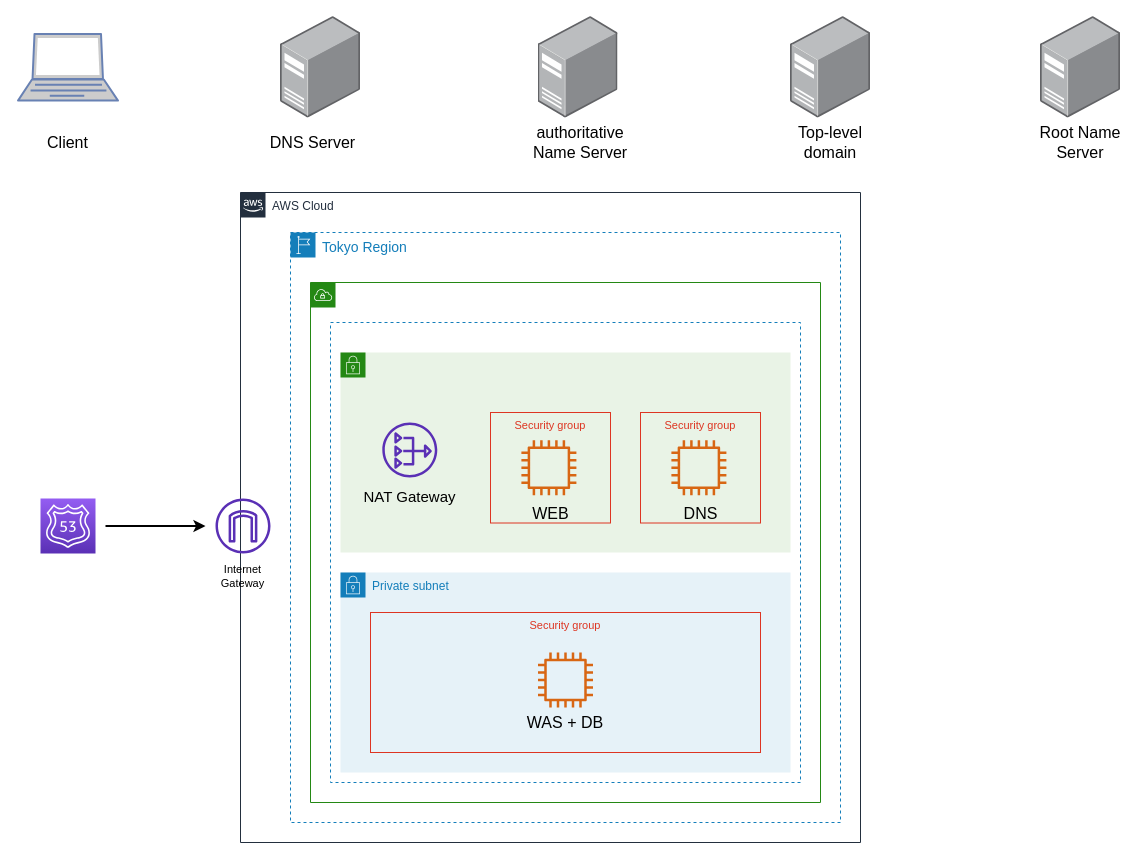
The diagram is 1148 pixels wide and 861 high, and some of its shapes have lost their labels. The shapes that lost their labels are listed below. From the top down, each one's box as (x1, y1, x2, y2) in pixels, then its label:
(340, 352, 790, 552): Public subnet
(310, 282, 820, 802): VPC
(330, 322, 800, 782): Availability Zone
